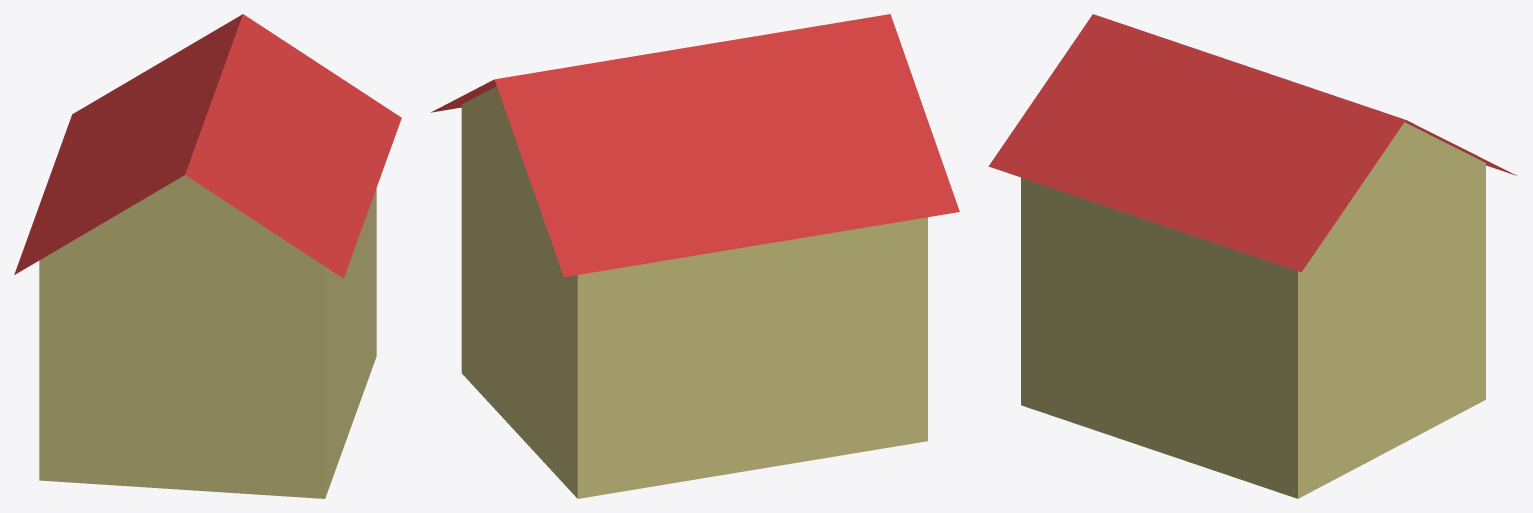
3 renders of one model, left to right at view 1: azimuth 30°, elevation 25°; view 2: azimuth 150°, elevation 25°; view 3: azimuth 270°, elevation 25°, orthographic. The views are drawn at different scales.
Bounding box in the file's own units: 16.91 × 17.19 × 12.08.
